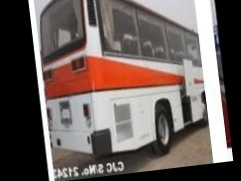bus: (32, 0, 213, 174)
